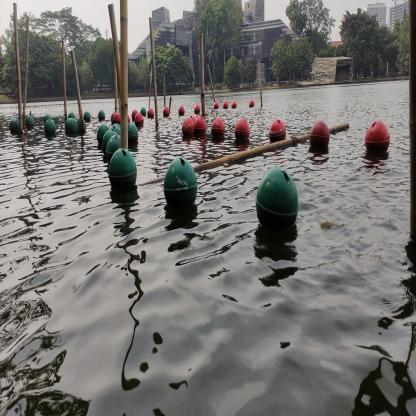green_buoy: (255, 166, 299, 238), (162, 154, 198, 210), (108, 147, 138, 196), (106, 134, 121, 162), (102, 130, 118, 155), (96, 123, 110, 150), (128, 123, 139, 146), (44, 119, 56, 138), (67, 118, 79, 136), (76, 118, 87, 134), (9, 116, 17, 134), (25, 115, 35, 129), (64, 118, 71, 135), (98, 108, 106, 122), (110, 126, 121, 136), (43, 114, 53, 125), (13, 119, 20, 133), (84, 111, 92, 123), (68, 112, 76, 122), (110, 123, 121, 130), (140, 107, 146, 117)
red_buoy: (364, 119, 391, 156), (309, 119, 330, 149), (269, 118, 286, 146), (234, 118, 250, 144), (211, 117, 226, 141), (182, 118, 194, 138), (194, 116, 207, 134), (134, 113, 145, 127), (110, 110, 117, 125), (113, 112, 121, 125), (178, 104, 186, 116), (163, 106, 170, 118), (147, 108, 154, 119), (132, 109, 139, 120), (189, 116, 197, 125), (194, 105, 200, 114), (231, 100, 237, 108), (213, 101, 219, 109), (249, 99, 254, 108), (127, 113, 131, 124), (223, 100, 228, 108)
